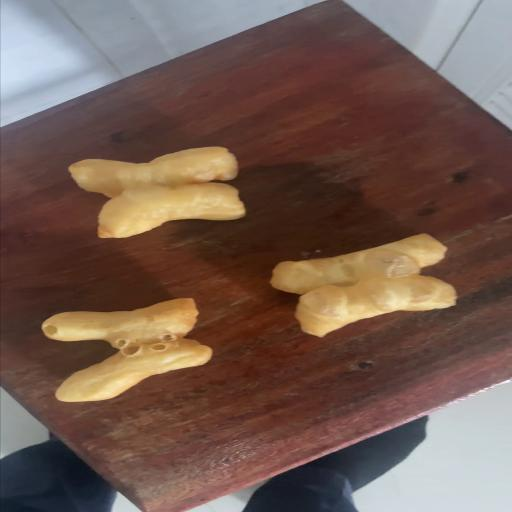street_golden_defect: (268, 235, 454, 335), (40, 300, 210, 400)
street_golden_good: (68, 147, 245, 239)
